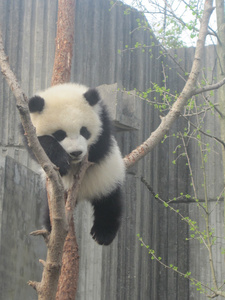panda: (17, 77, 149, 256)
